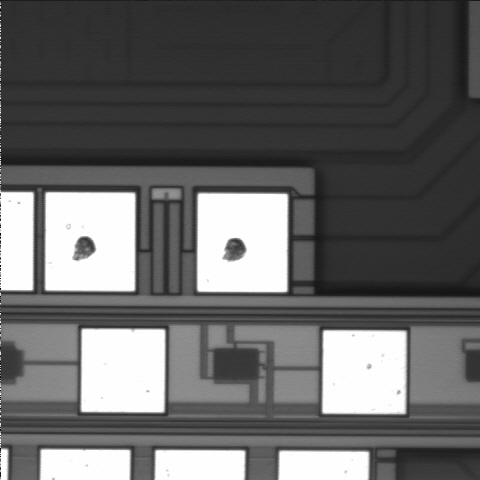pad: (197, 193, 288, 292), (45, 192, 135, 291), (81, 329, 165, 412), (323, 330, 406, 414)
